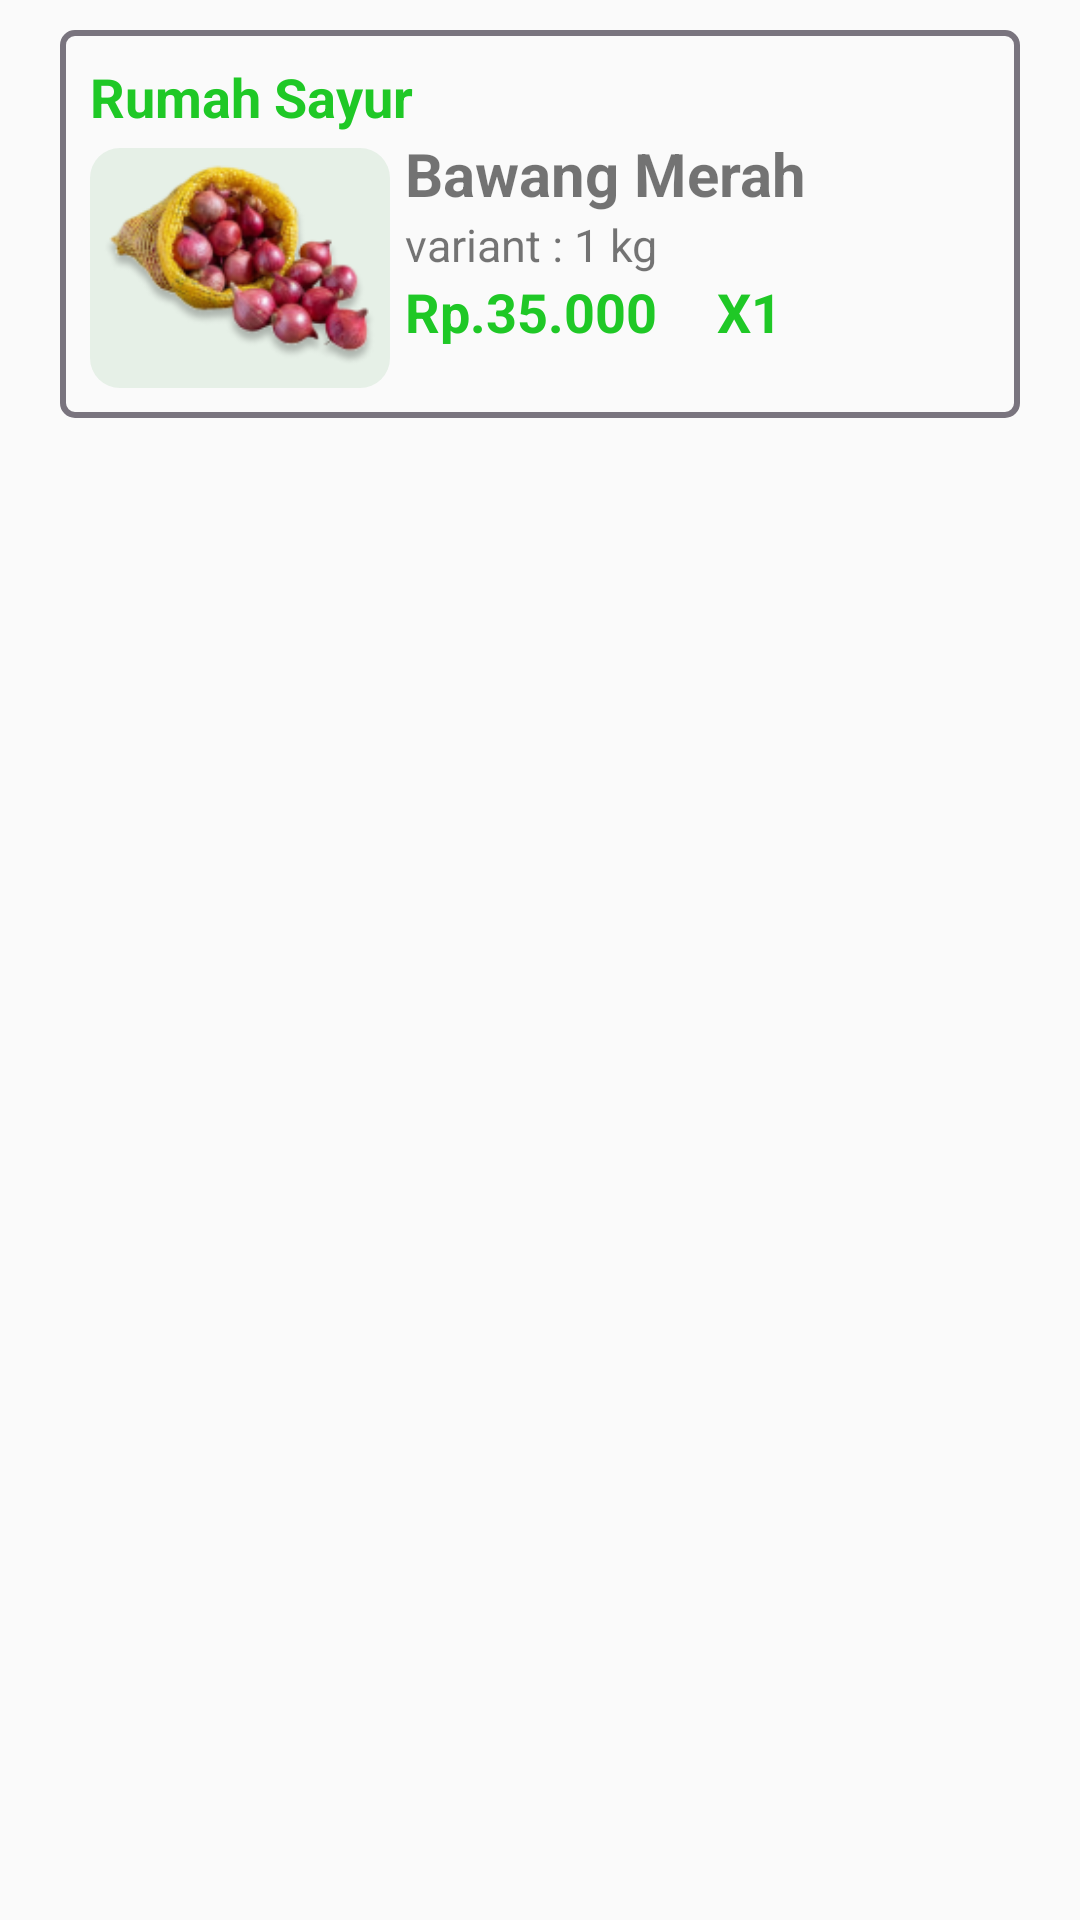

Named icons in this screenshot (1080 × 1920) and their centers, (x=x, y=y):
produk: (x=240, y=264)
